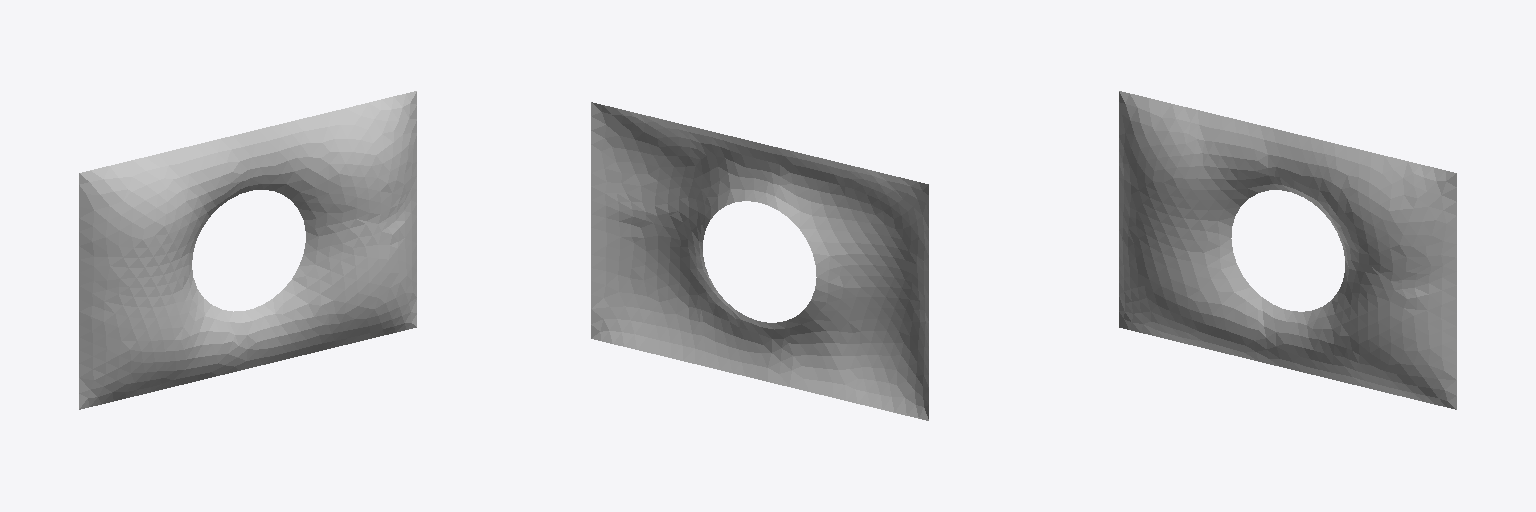
The model's file is court1_opt.obj.
3 renders of one model, left to right at view 1: azimuth 30°, elevation 25°; view 2: azimuth 150°, elevation 25°; view 3: azimuth 330°, elevation 25°, orthographic.
Parts seen in each view (by area): view 1: [local-path]\Google_Drive\PS_structures\source\samples/court1_op; view 2: [local-path]\Google_Drive\PS_structures\source\samples/court1_op; view 3: [local-path]\Google_Drive\PS_structures\source\samples/court1_op.
Part boxes in pixels (left/top/right/bottom): [local-path]\Google_Drive\PS_structures\source\samples/court1_op: left=79, top=91, right=416, bottom=409; [local-path]\Google_Drive\PS_structures\source\samples/court1_op: left=591, top=102, right=928, bottom=420; [local-path]\Google_Drive\PS_structures\source\samples/court1_op: left=1119, top=91, right=1456, bottom=409.
Bounding box in the file's own units: 59.76 × 39.99 × 4.76.